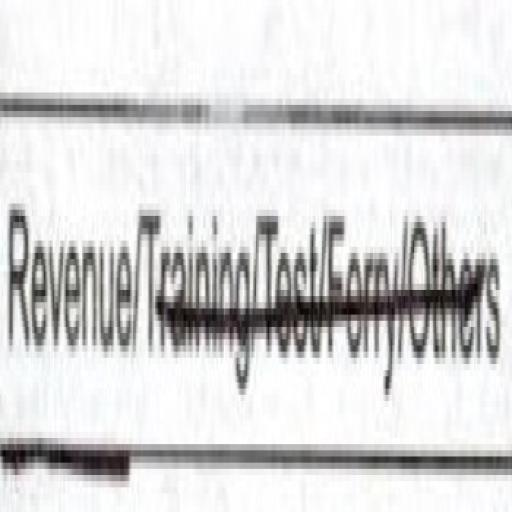check: (1, 19, 136, 512)
